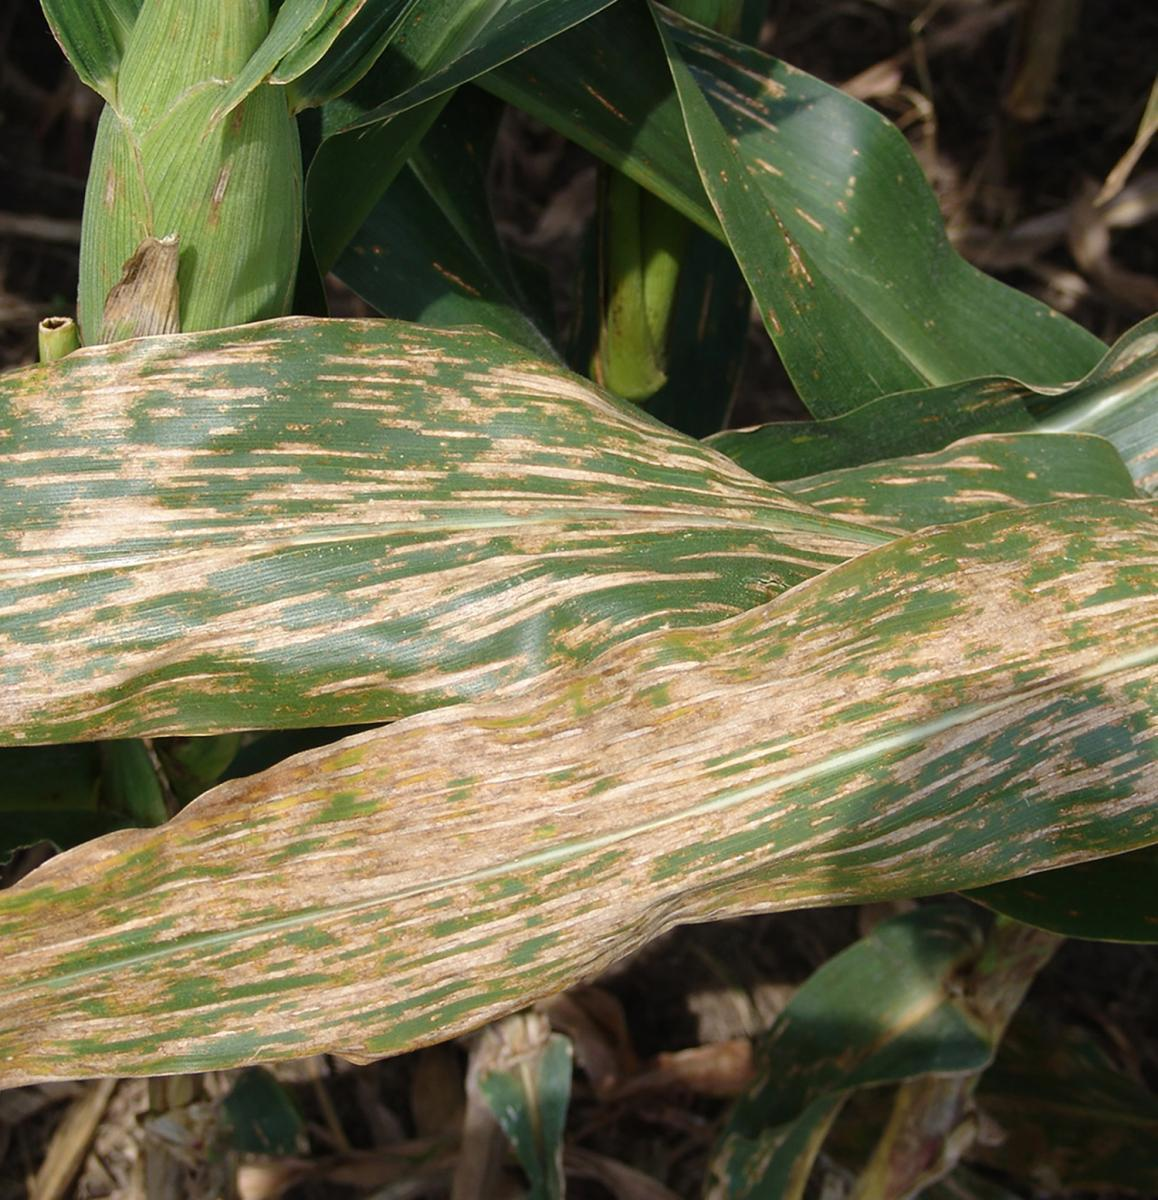Corn_Blight: (10, 309, 1155, 1087), (668, 17, 804, 184), (763, 199, 842, 280)
